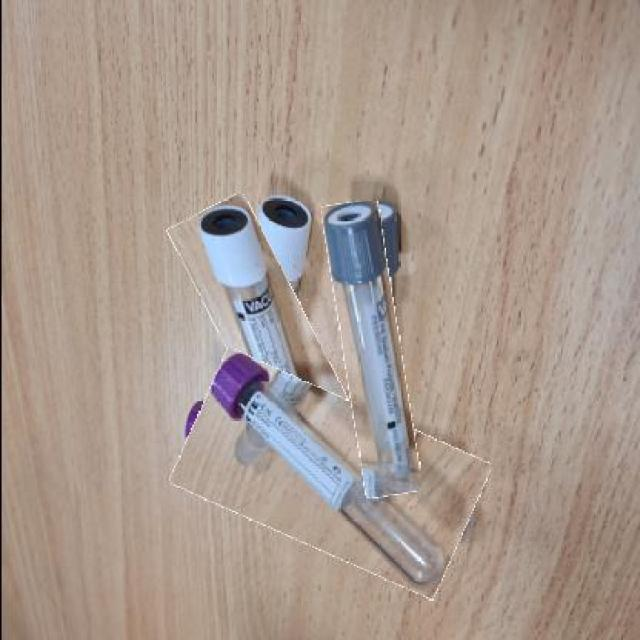Experimental-tube: (175, 374, 483, 574), (197, 193, 346, 502), (330, 198, 410, 497)
